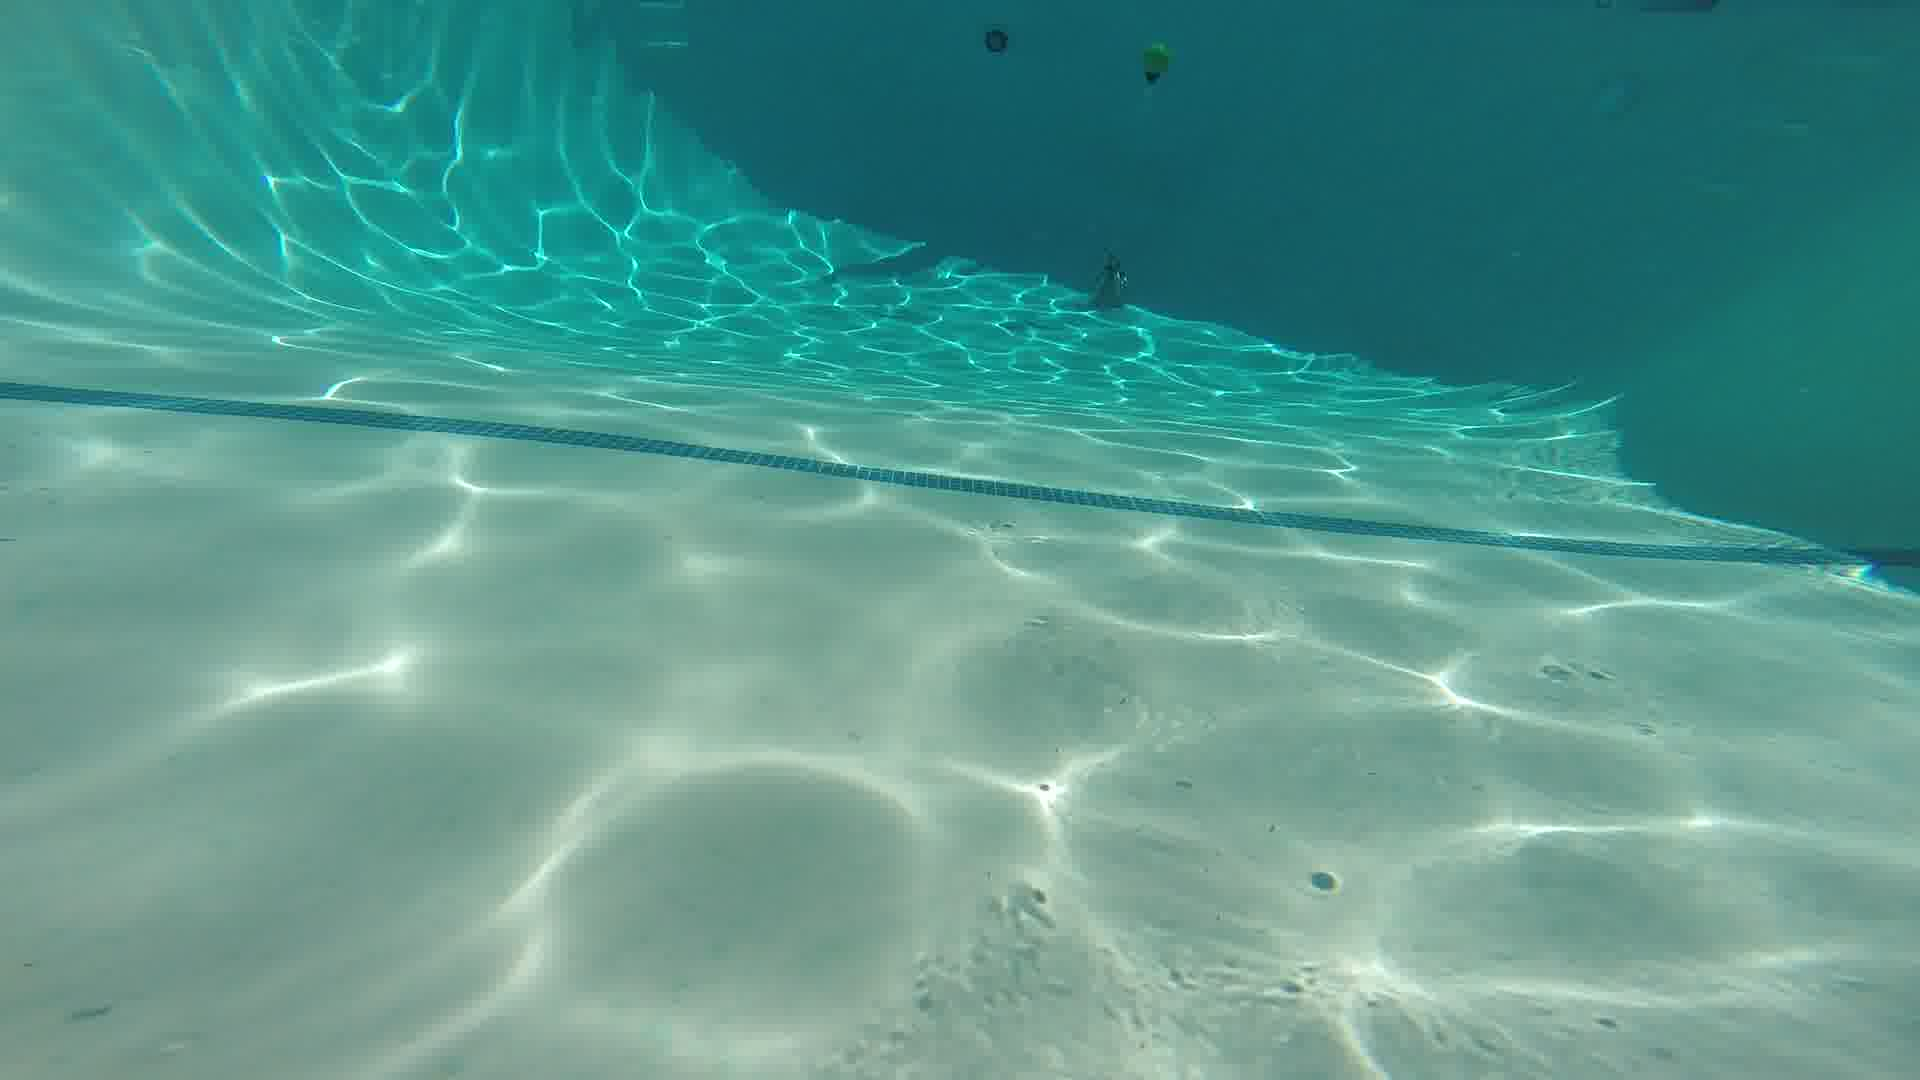yellow_buoy: (1127, 40, 1183, 99)
